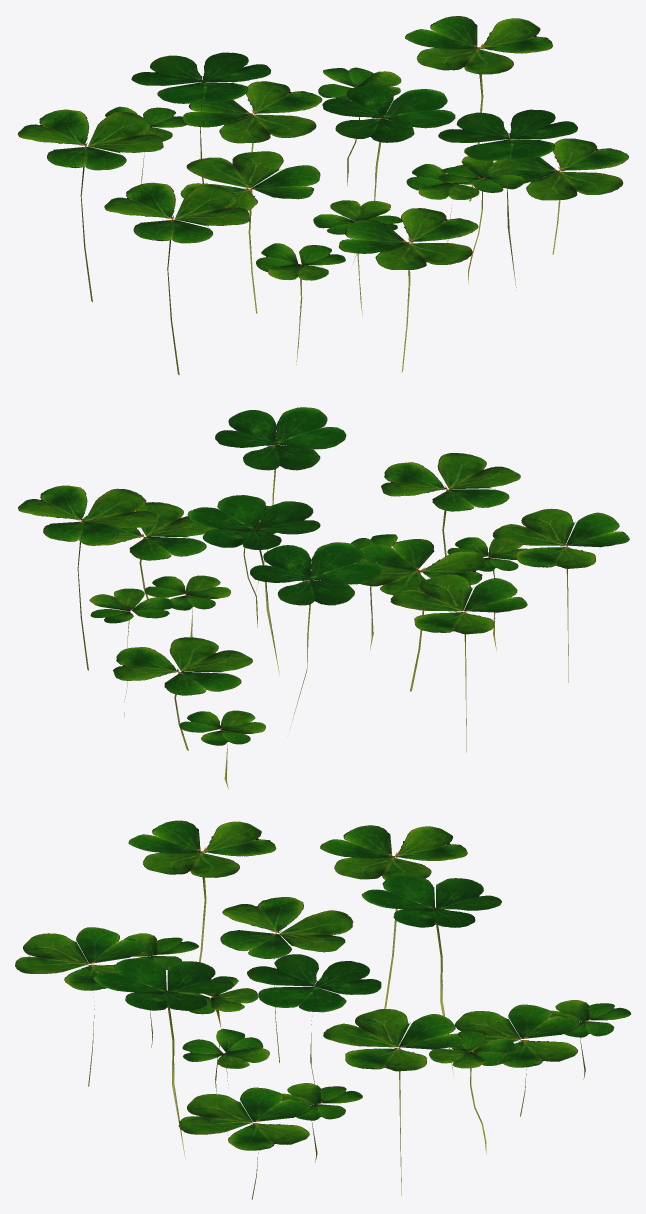
File: Clovers_LOD1.fbx
3 views of the same model, one above another, from view 1: azimuth 30°, elevation 25°; view 2: azimuth 150°, elevation 25°; view 3: azimuth 270°, elevation 25° (orthographic). The views are drawn at different scales.
Visible parts, largest first — view 1: Clovers_LOD1; view 2: Clovers_LOD1; view 3: Clovers_LOD1.
Part boxes in pixels (<box>): Clovers_LOD1: <box>18,16,628,374</box>; Clovers_LOD1: <box>18,407,629,788</box>; Clovers_LOD1: <box>15,820,630,1199</box>.
Bounding box in the file's own units: 0.4667 × 0.1514 × 0.4726.
